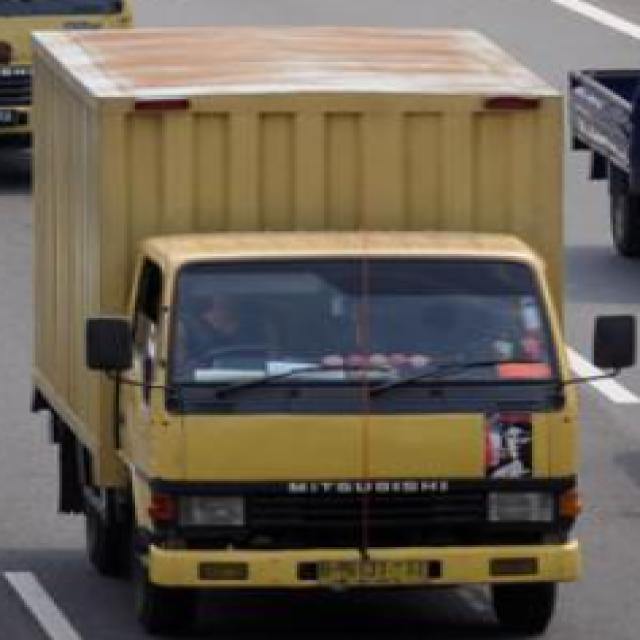truck: (30, 8, 636, 640)
